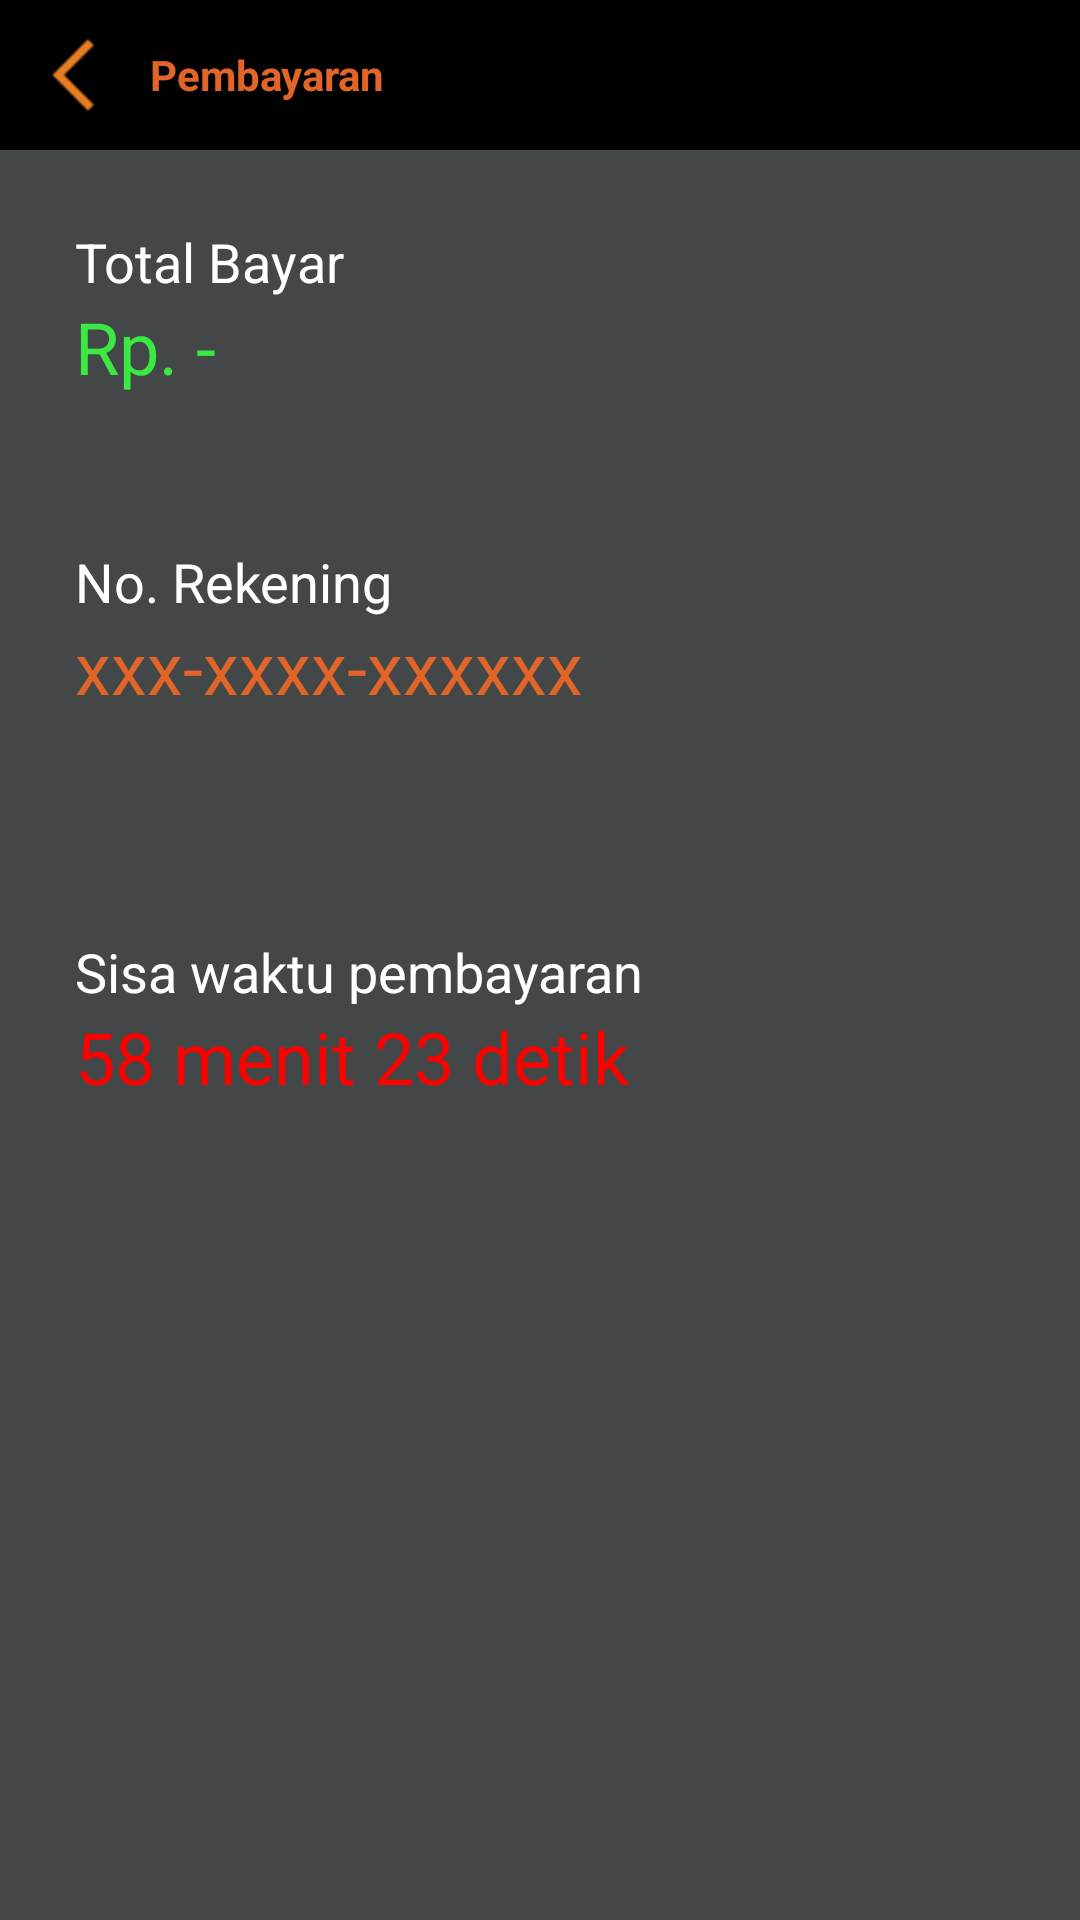

Locate icon controls on the screen. Image size 1080w x 1920h, boxes as (x1, y1, x2, y2).
back: (52, 39, 94, 111)
